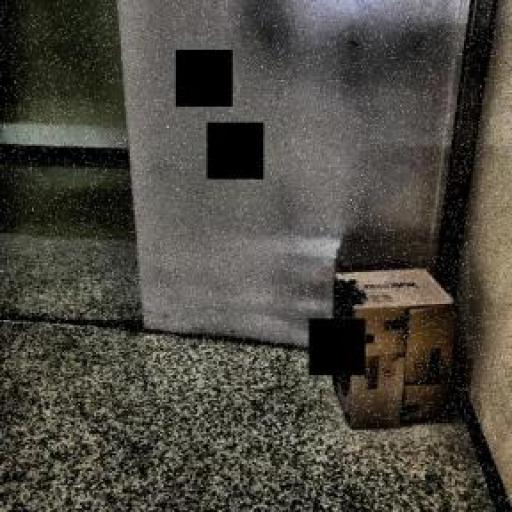box: (326, 244, 470, 446)
